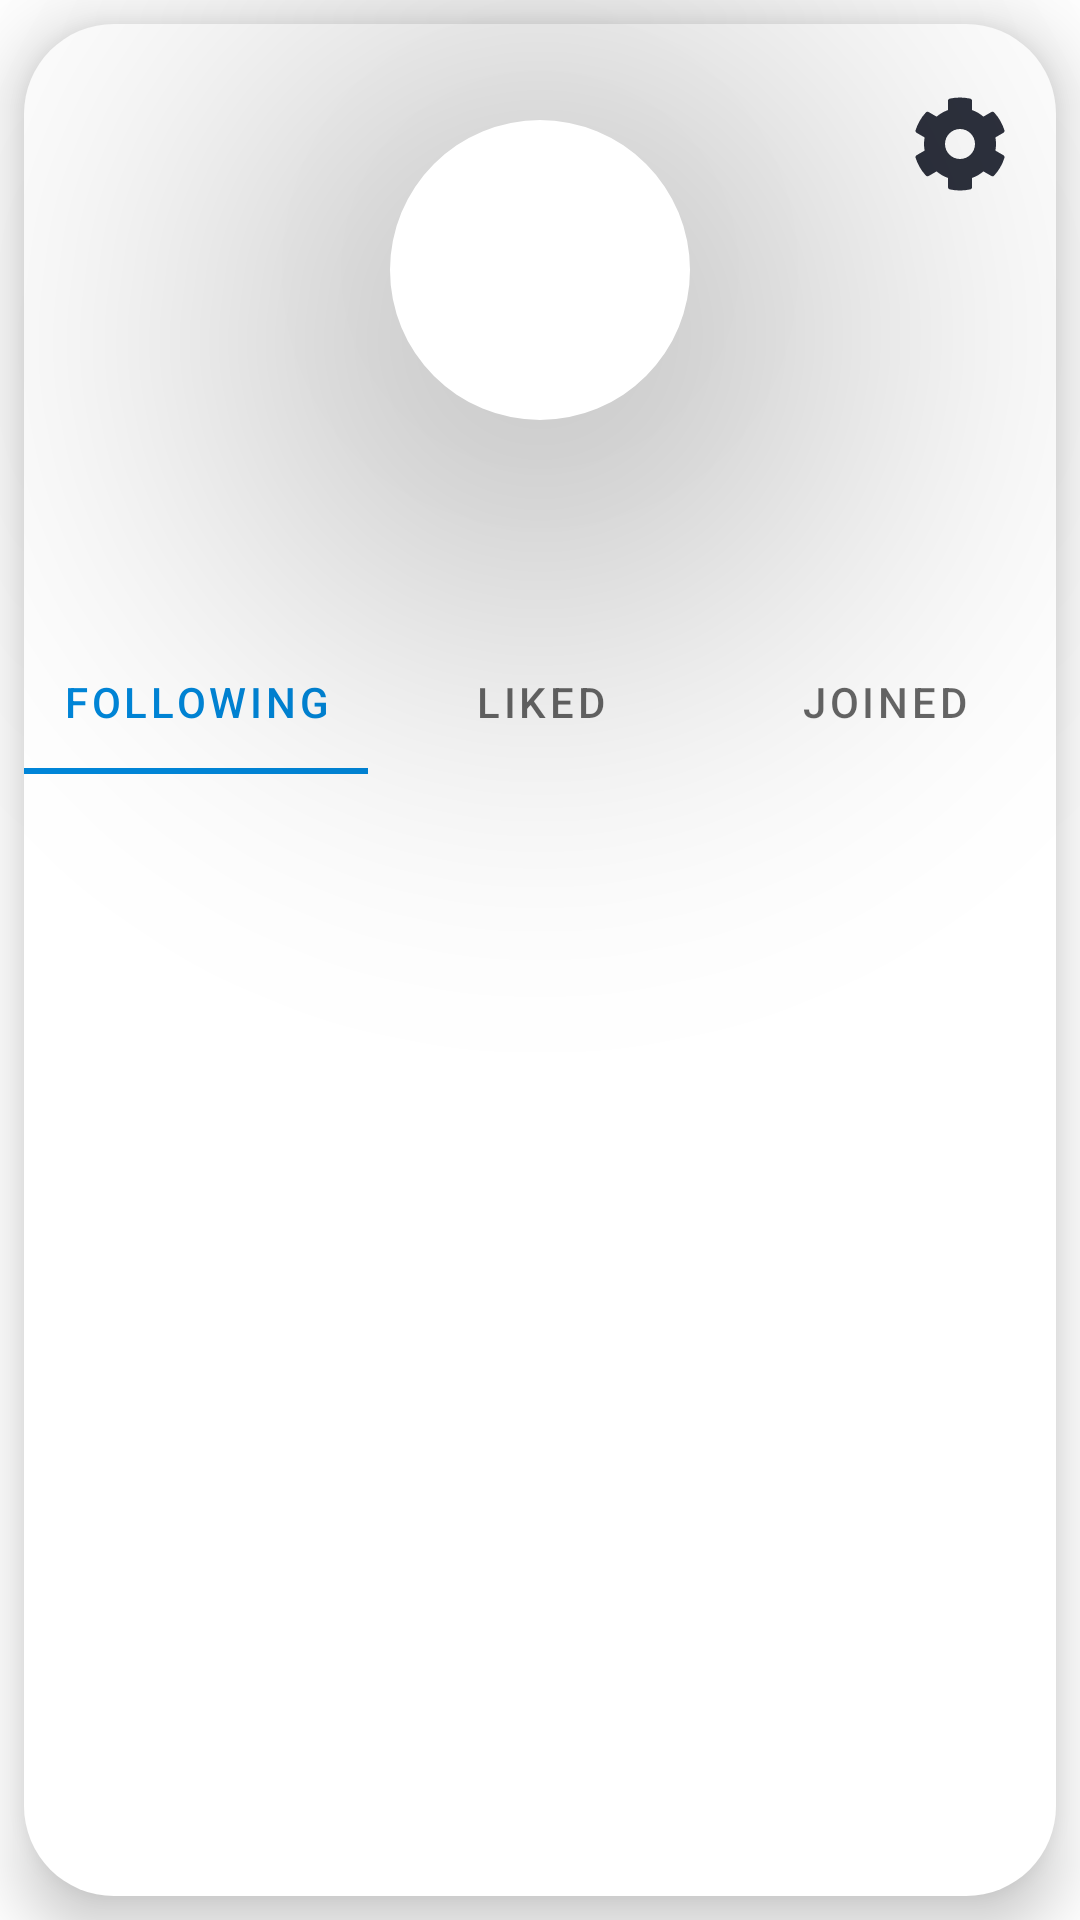

Locate icon controls on the screen. Image size 1080x1920, boxes as (x1, y1, x2, y2).
cog: (915, 97, 1005, 191)
